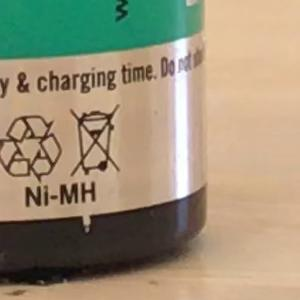keyword: (15, 171, 106, 217)
